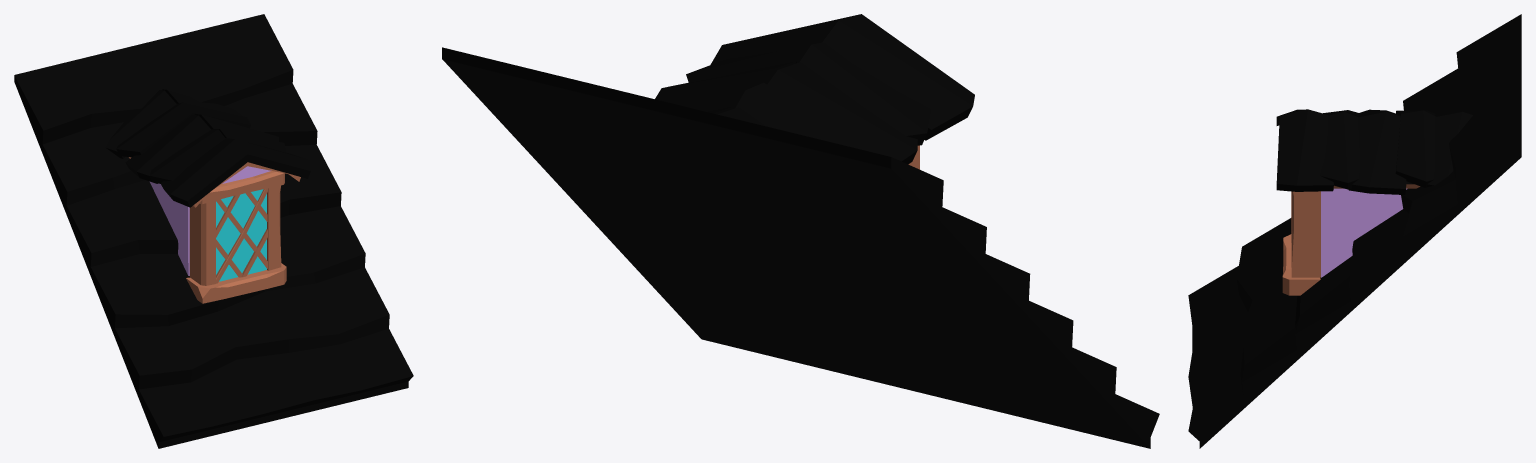
File: Roof 03 Window 01.fbx
3 renders of one model, left to right at view 1: azimuth 30°, elevation 25°; view 2: azimuth 150°, elevation 25°; view 3: azimuth 270°, elevation 25°, orthographic. The views are drawn at different scales.
Visible parts, largest first — view 1: Roof 03 Window 01; view 2: Roof 03 Window 01; view 3: Roof 03 Window 01.
Boxes of the visible parts, x1,y1,x2,y2 form: Roof 03 Window 01: (14,14,413,448); Roof 03 Window 01: (442,14,1159,448); Roof 03 Window 01: (1188,14,1521,448).
Size of the model in its own units: 400 by 410 by 414.
